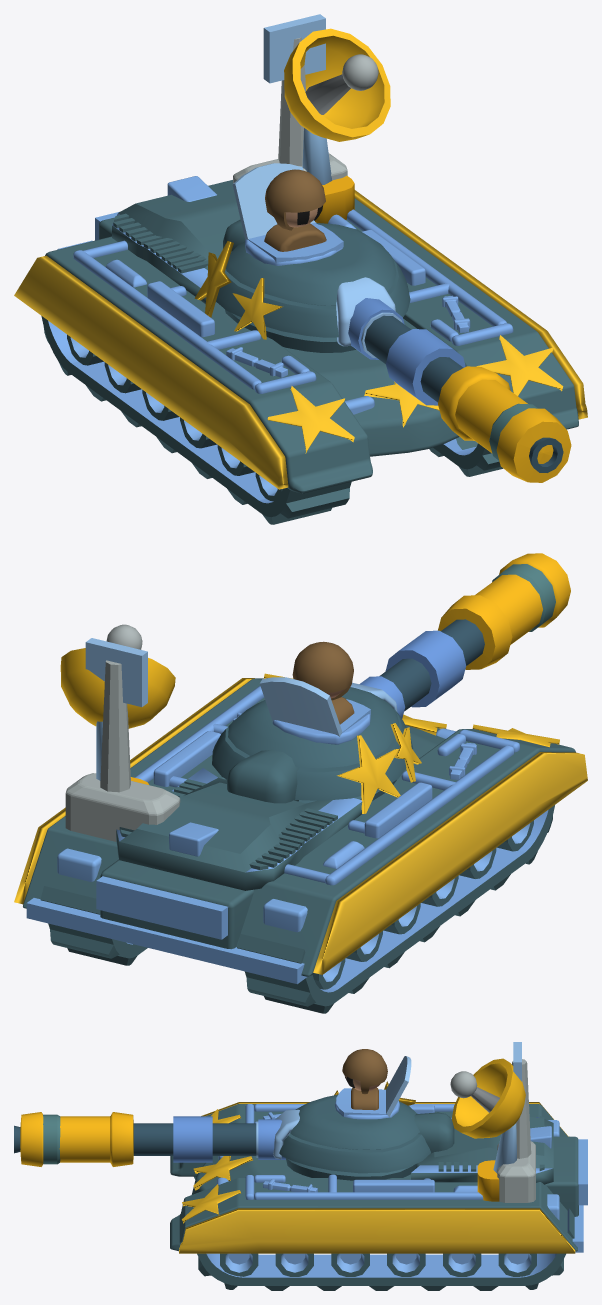
Rendered from Tank.fbx.
The picture shows the model from 3 angles, top to bottom: view 1: azimuth 30°, elevation 25°; view 2: azimuth 150°, elevation 25°; view 3: azimuth 270°, elevation 25°; orthographic projection. The views are drawn at different scales.
Visible parts, largest first — view 1: Cube.021, Cube.046, Cube.049, Cube.022, Cube.040, Cube.043, Cube.047, Cube.044, Cube.042; view 2: Cube.021, Cube.046, Cube.049, Cube.022, Cube.040, Cube.047, Cube.042, Cube.043, Cube.044; view 3: Cube.021, Cube.046, Cube.049, Cube.022, Cube.040, Cube.043, Cube.044, Cube.047, Cube.042.
Boxes of the visible parts, x1,y1,x2,y2 form: Cube.021: (41,176,578,524); Cube.046: (14,28,587,489); Cube.049: (348,298,571,482); Cube.022: (216,222,410,352); Cube.040: (233,14,347,183); Cube.043: (264,169,326,251); Cube.047: (194,219,283,339); Cube.044: (336,277,537,460); Cube.042: (232,163,315,239); Cube.021: (23,678,575,1013); Cube.046: (14,624,587,974); Cube.049: (359,553,570,718); Cube.022: (212,687,413,803); Cube.040: (65,638,180,841); Cube.047: (227,723,421,813); Cube.042: (259,677,342,736); Cube.043: (292,641,354,724); Cube.044: (350,564,555,712); Cube.021: (170,1104,587,1290); Cube.046: (179,1058,575,1253); Cube.049: (14,1112,285,1166); Cube.022: (279,1088,430,1180); Cube.040: (497,1042,535,1202); Cube.043: (342,1049,387,1110); Cube.044: (43,1109,299,1164); Cube.047: (334,1081,454,1153); Cube.042: (386,1056,411,1116).
Bounding box in the file's own units: 1.52 × 1.41 × 3.24.
